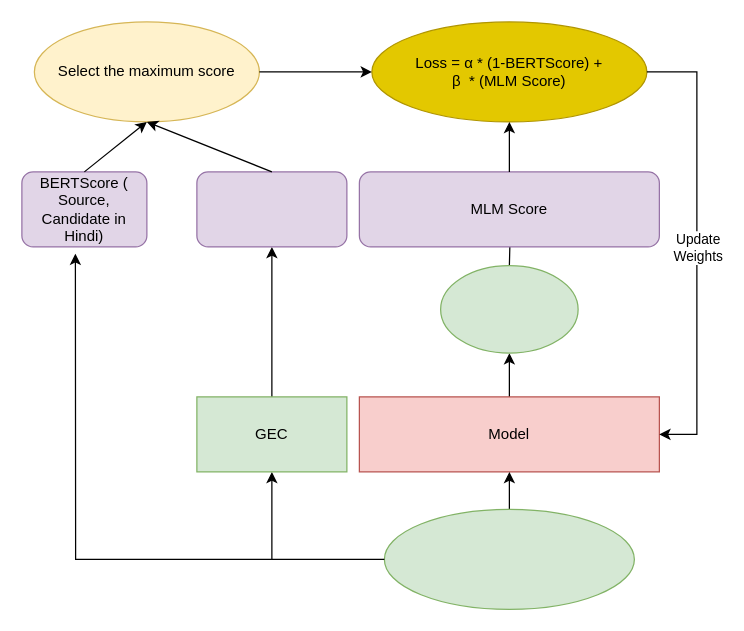
Image size: 744x631. Some labels were removed from this diagram. Each missing label, with the centre of its shape:
"BERTScore ( Corrected Source, Candidate in Hindi)" belongs at point (271, 209).
"Candidate Translation" belongs at point (508, 308).
"Source text (English)" belongs at point (508, 558).
